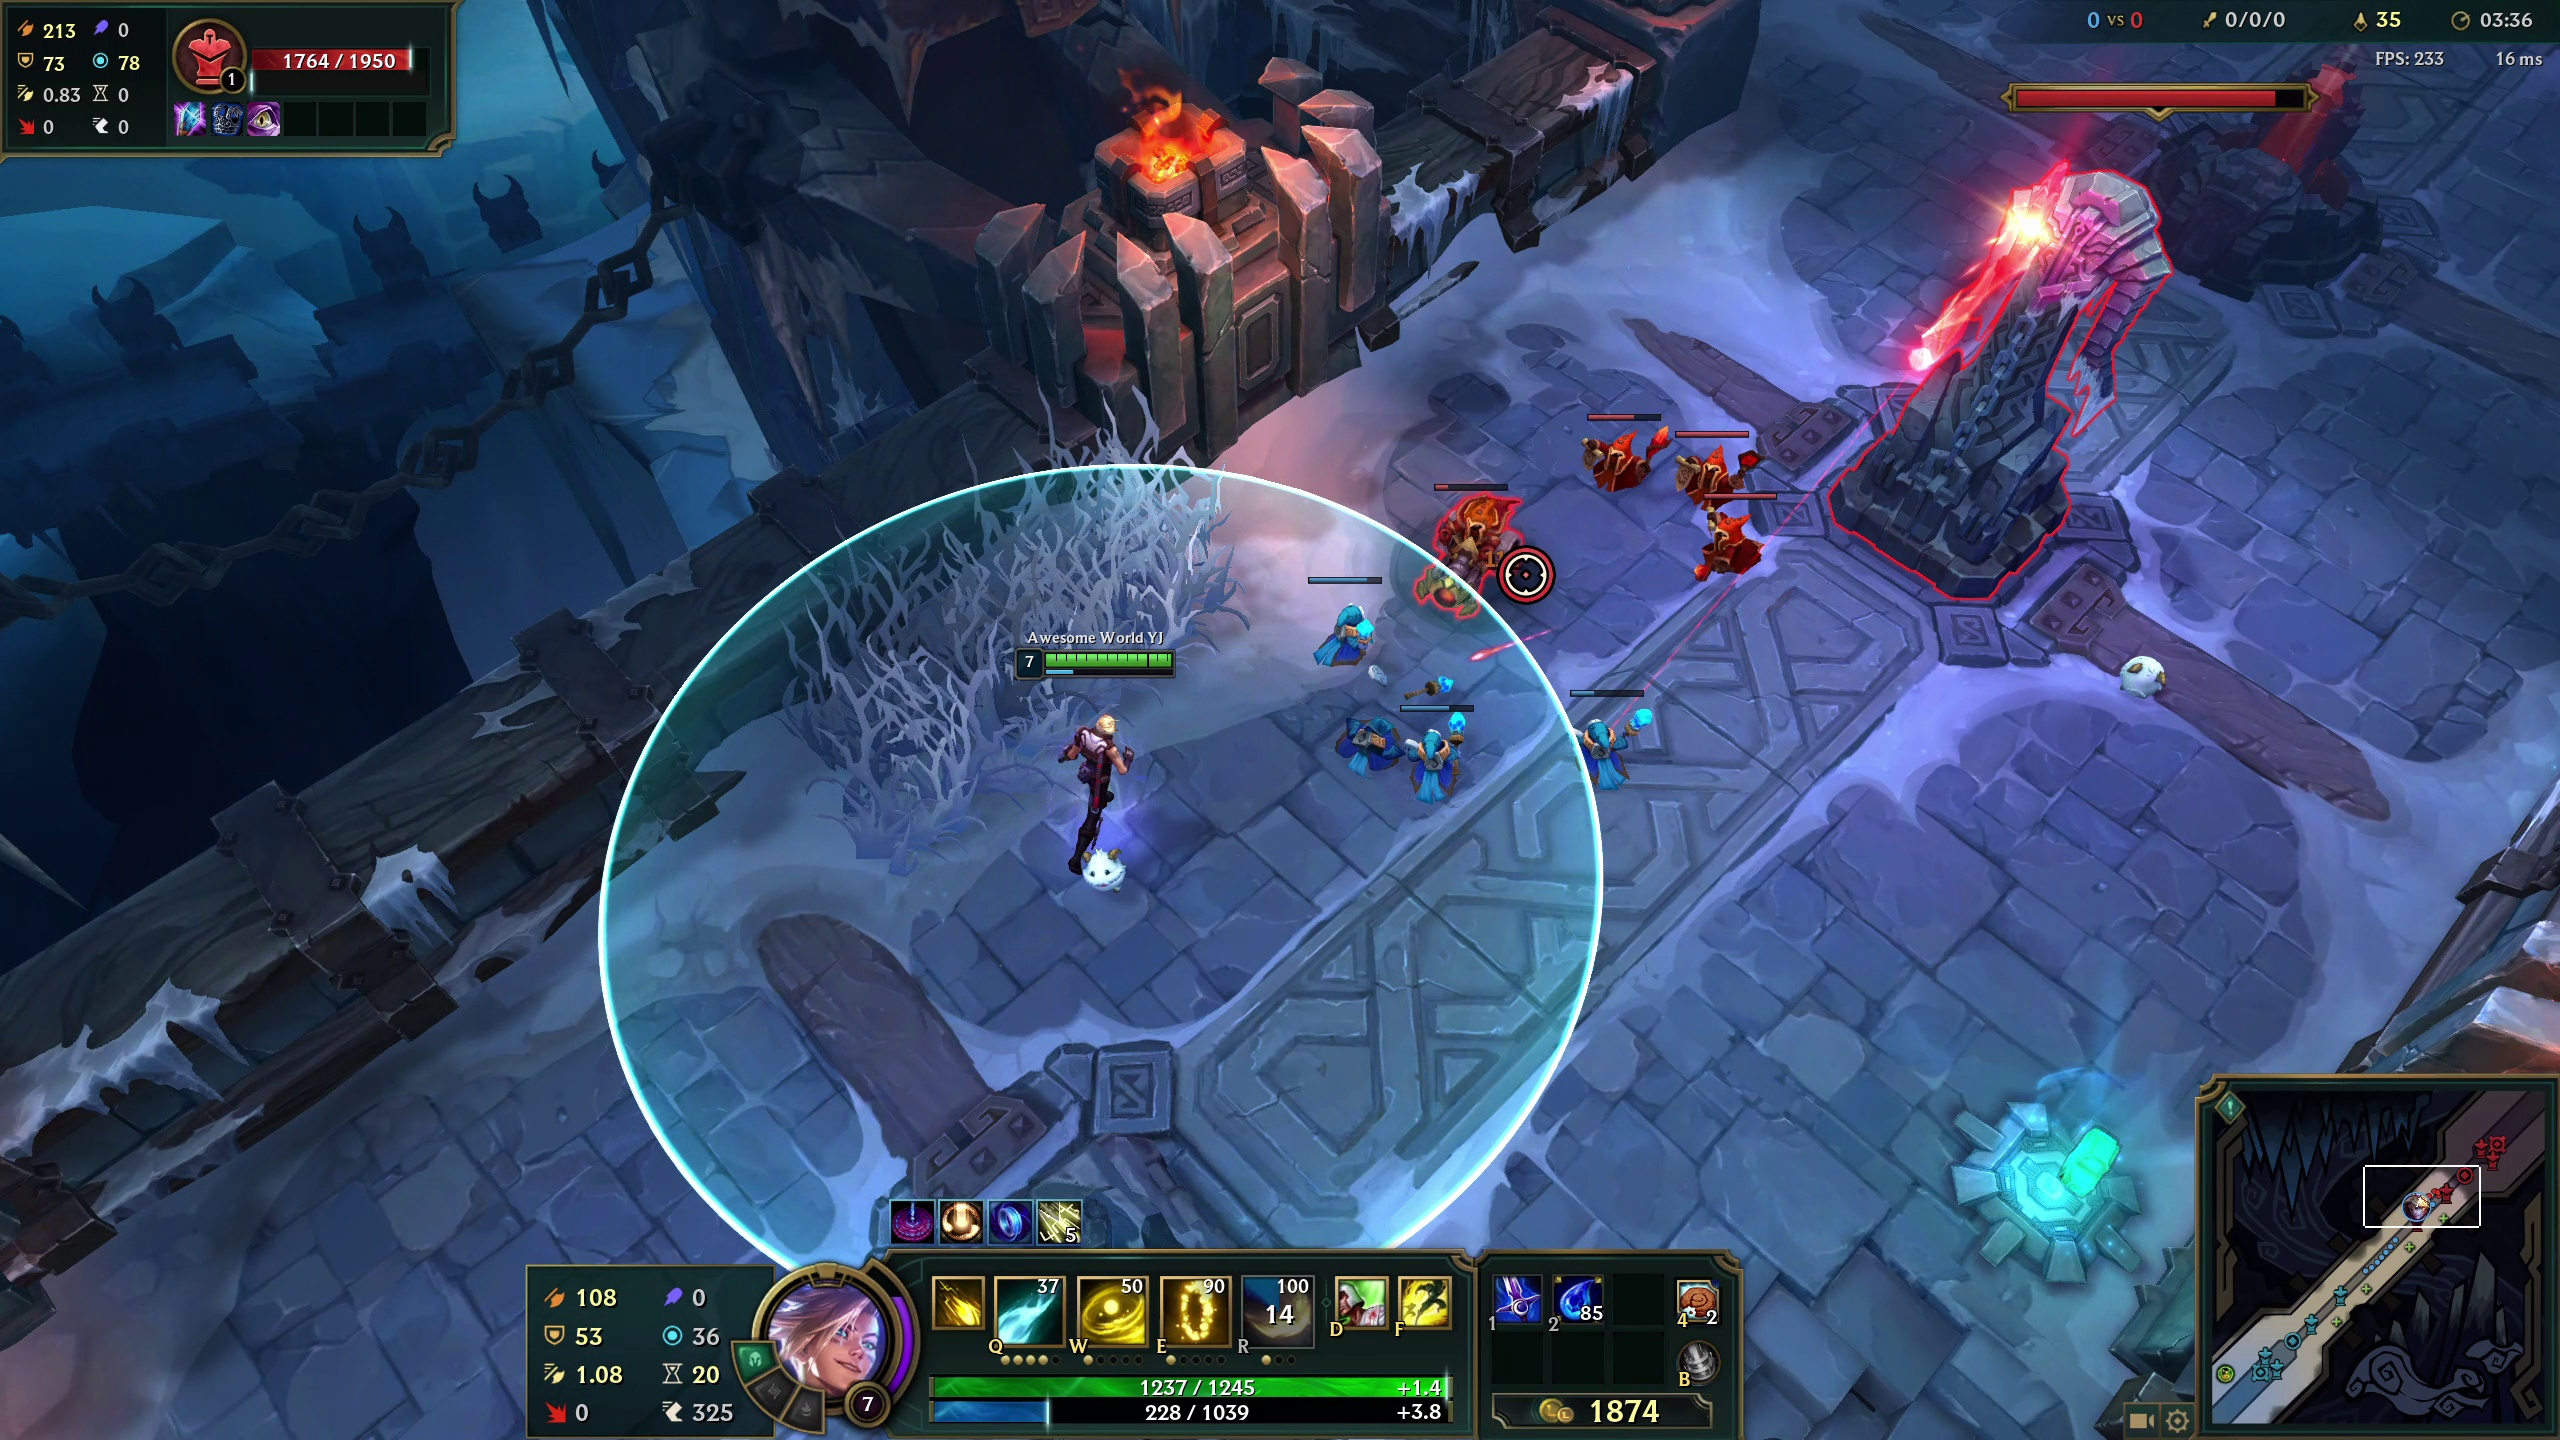EZ: (1044, 631, 1153, 867)
EnemyMinion: (1582, 411, 1670, 496), (1707, 491, 1776, 580), (1676, 420, 1748, 498)
EnemySuperMinnion: (1403, 468, 1533, 593)
Glass: (812, 513, 1166, 760)
Inhibitor: (2177, 88, 2409, 280)
MyMinion: (1558, 679, 1656, 818), (1301, 556, 1385, 672), (1401, 693, 1475, 809)
Turret: (1853, 176, 2142, 594)
